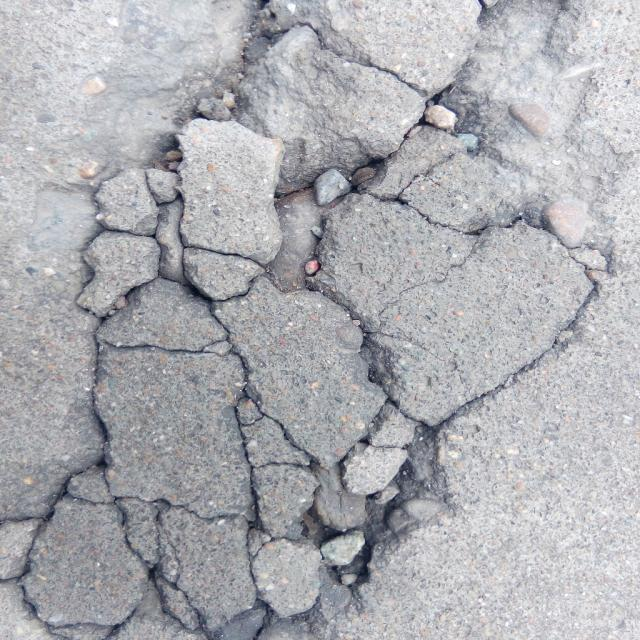cracks: (12, 0, 629, 626)
